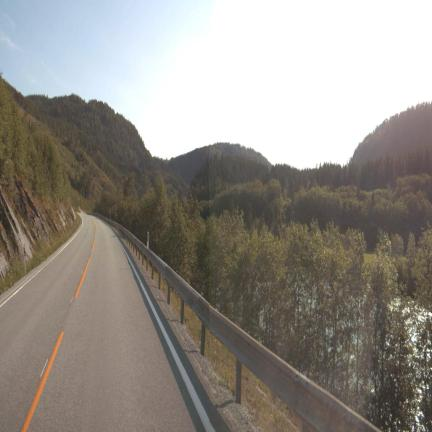Road: (0, 215, 225, 430)
